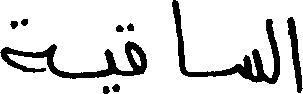X: (0, 14, 53, 78), (171, 0, 186, 80), (125, 18, 144, 80), (288, 12, 302, 93), (237, 44, 262, 87), (266, 14, 278, 88), (104, 22, 116, 93)
